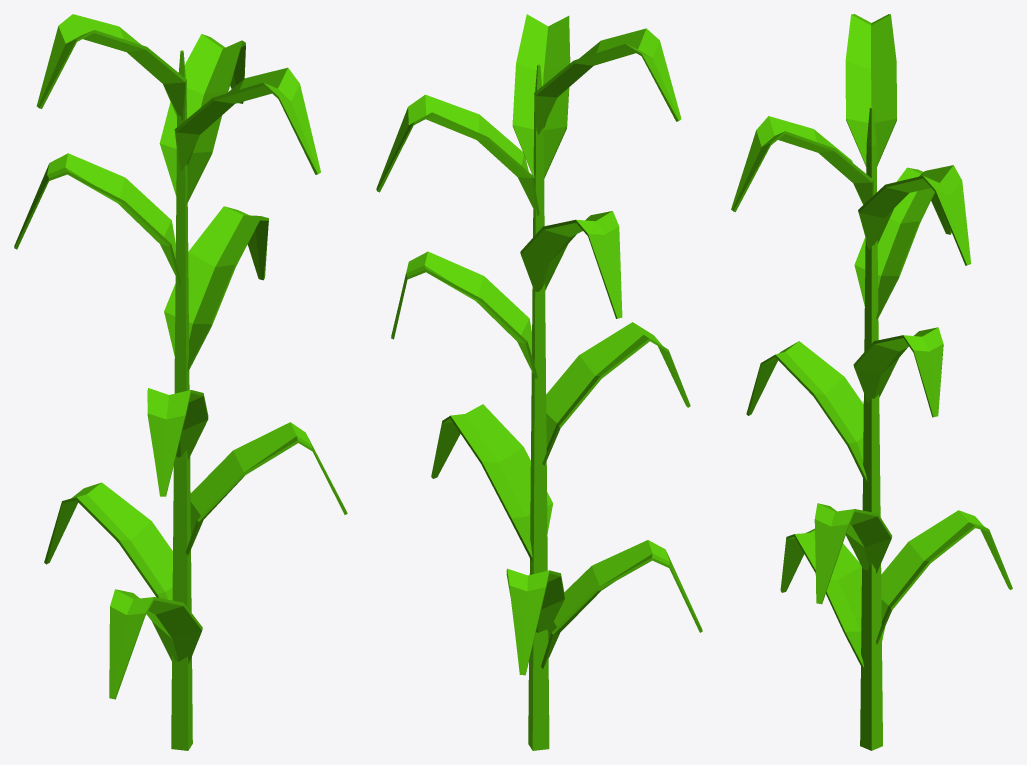
File: corn_low_02.fbx
The picture shows the model from 3 angles, left to right: view 1: azimuth 30°, elevation 25°; view 2: azimuth 150°, elevation 25°; view 3: azimuth 270°, elevation 25°; orthographic projection. The views are drawn at different scales.
Parts seen in each view (by area): view 1: Cube; view 2: Cube; view 3: Cube.
Boxes of the visible parts, x1,y1,x2,y2 form: Cube: [14, 14, 347, 750]; Cube: [376, 14, 702, 750]; Cube: [731, 14, 1012, 750].
Bounding box in the file's own units: 55.06 × 140 × 52.04.
